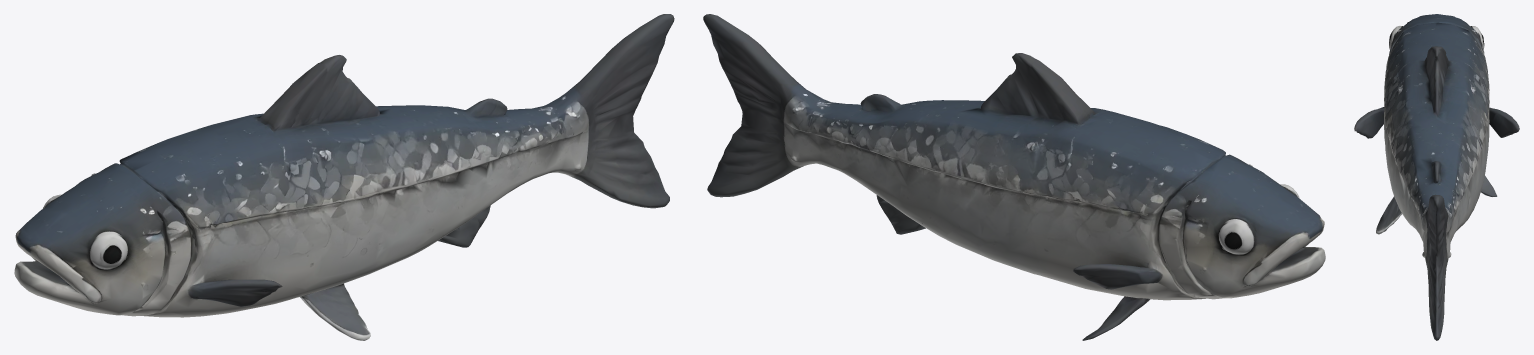
The model's file is fish-kefal.glb.
The picture shows the model from 3 angles, left to right: view 1: azimuth 30°, elevation 25°; view 2: azimuth 150°, elevation 25°; view 3: azimuth 270°, elevation 25°; orthographic projection. The views are drawn at different scales.
Visible parts, largest first — view 1: tripo_node_7e25ff1a-0b32-4428-9d1f-0bfaa5234935; view 2: tripo_node_7e25ff1a-0b32-4428-9d1f-0bfaa5234935; view 3: tripo_node_7e25ff1a-0b32-4428-9d1f-0bfaa5234935.
Part boxes in pixels (box(x1,y1,x2,y2)): tripo_node_7e25ff1a-0b32-4428-9d1f-0bfaa5234935: box(14, 14, 674, 340); tripo_node_7e25ff1a-0b32-4428-9d1f-0bfaa5234935: box(703, 14, 1325, 340); tripo_node_7e25ff1a-0b32-4428-9d1f-0bfaa5234935: box(1354, 14, 1519, 340).
Bounding box in the file's own units: 1 × 0.3694 × 0.2915.
Materials: 1 (1 with a texture image).
